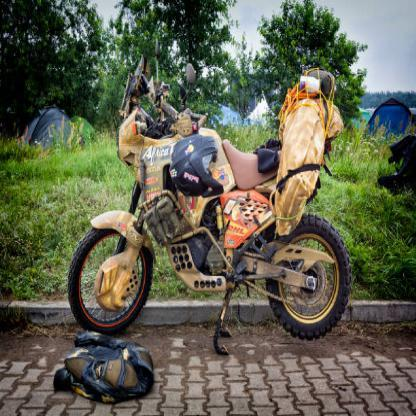Motorcycle: (62, 62, 348, 338)
